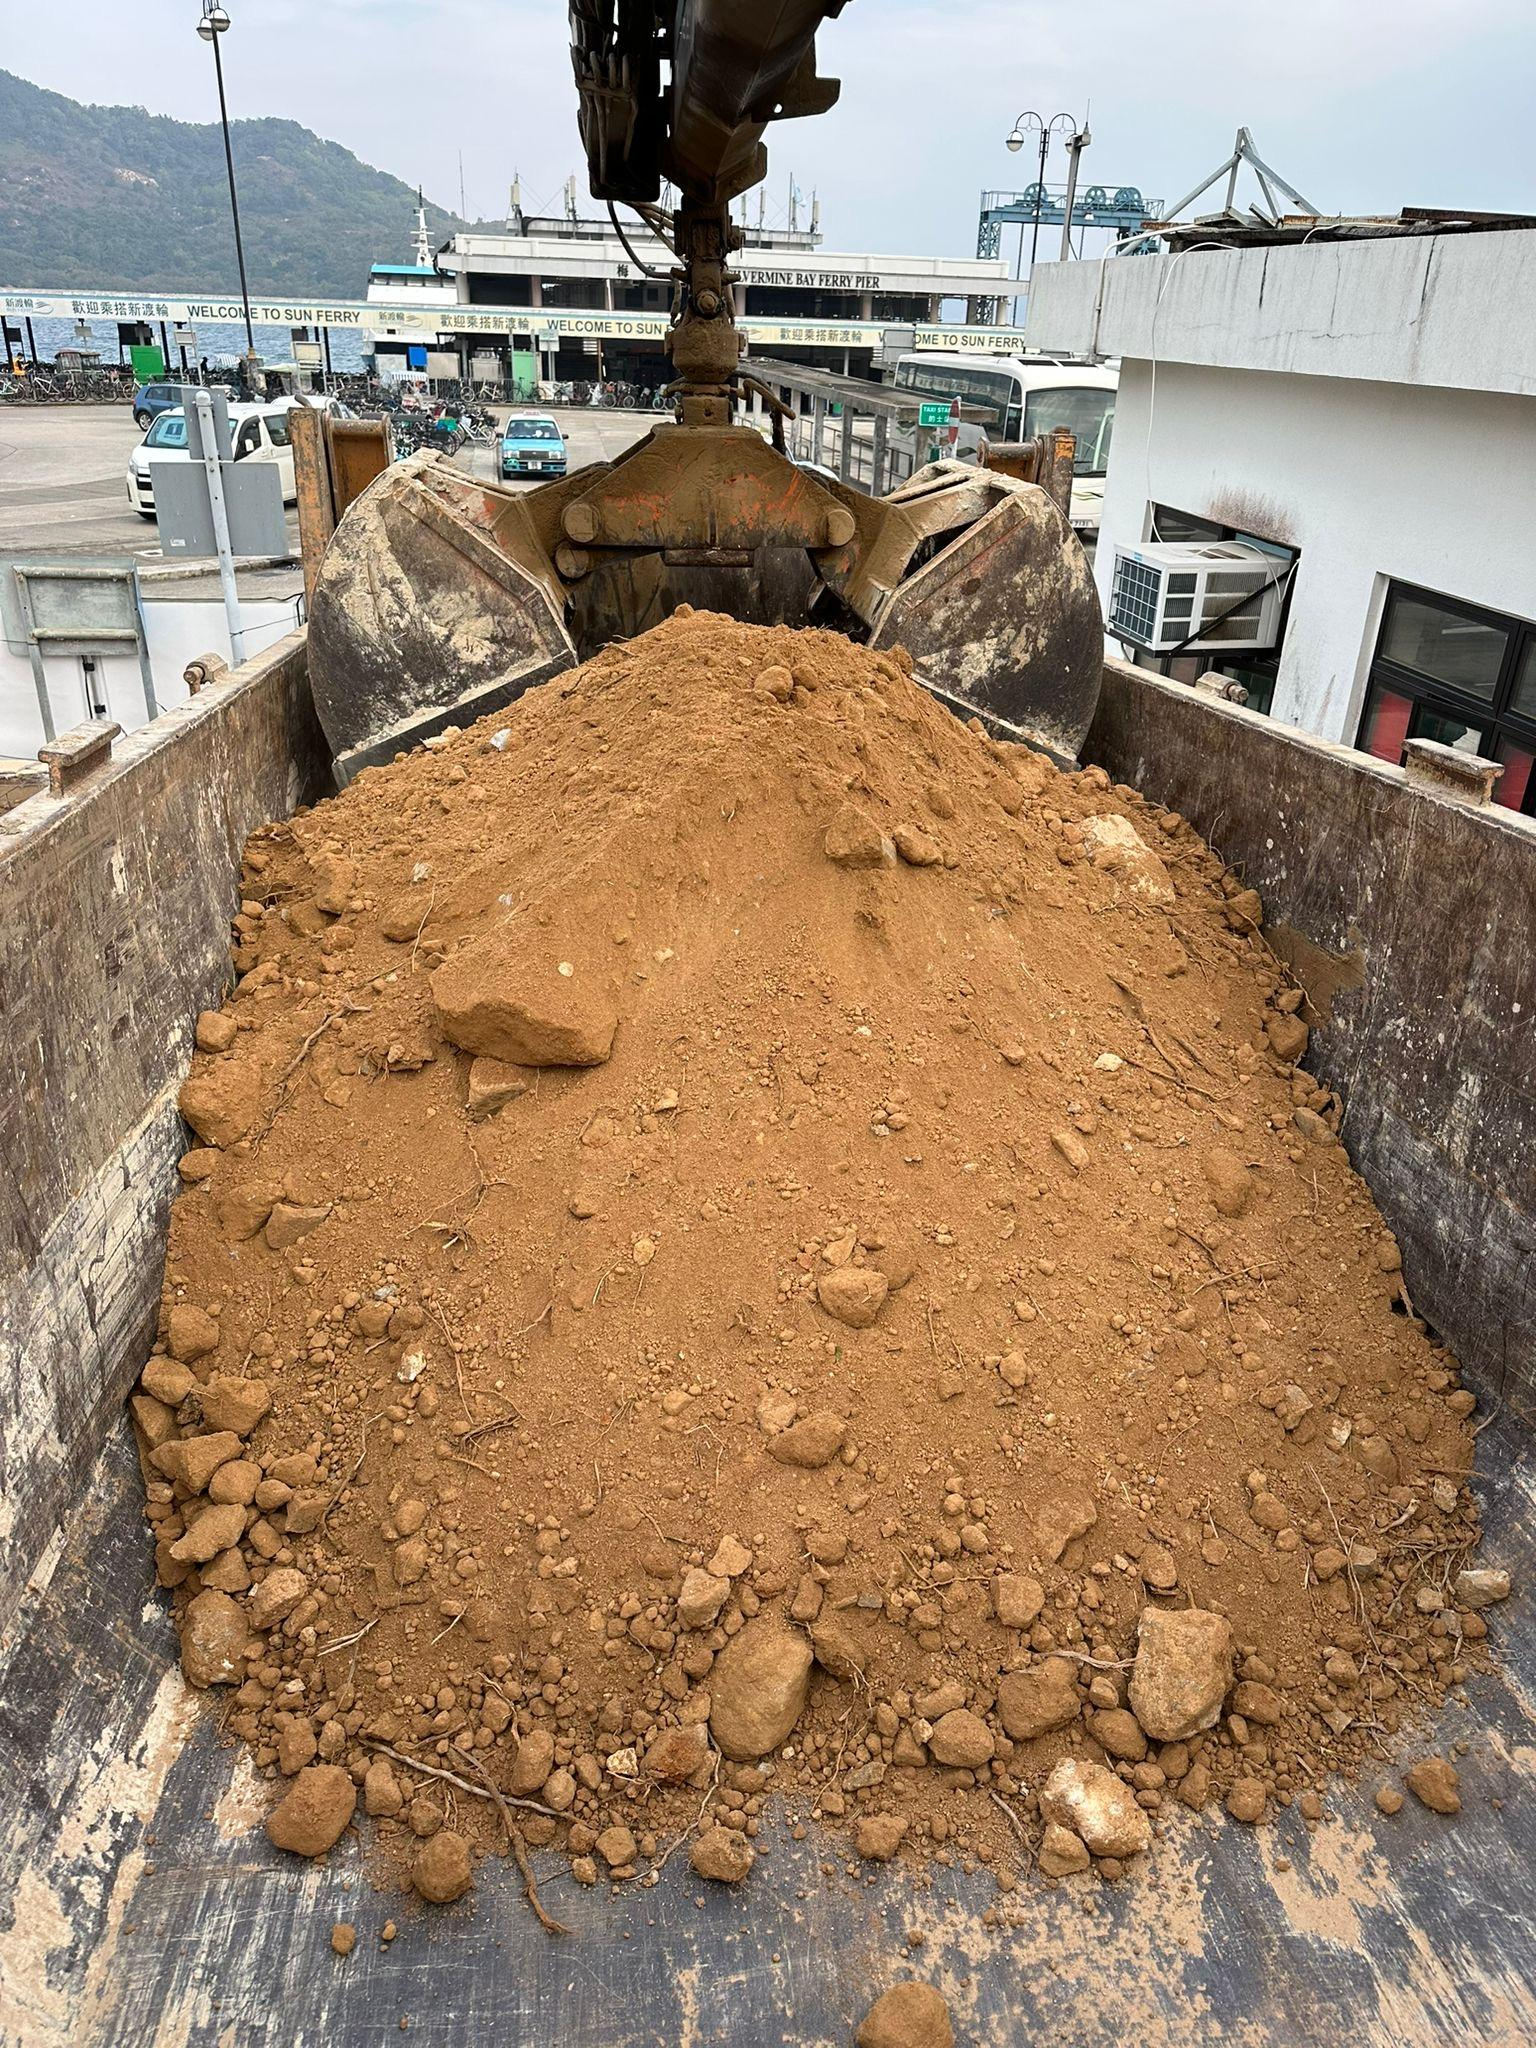dry: (157, 630, 1480, 1783)
